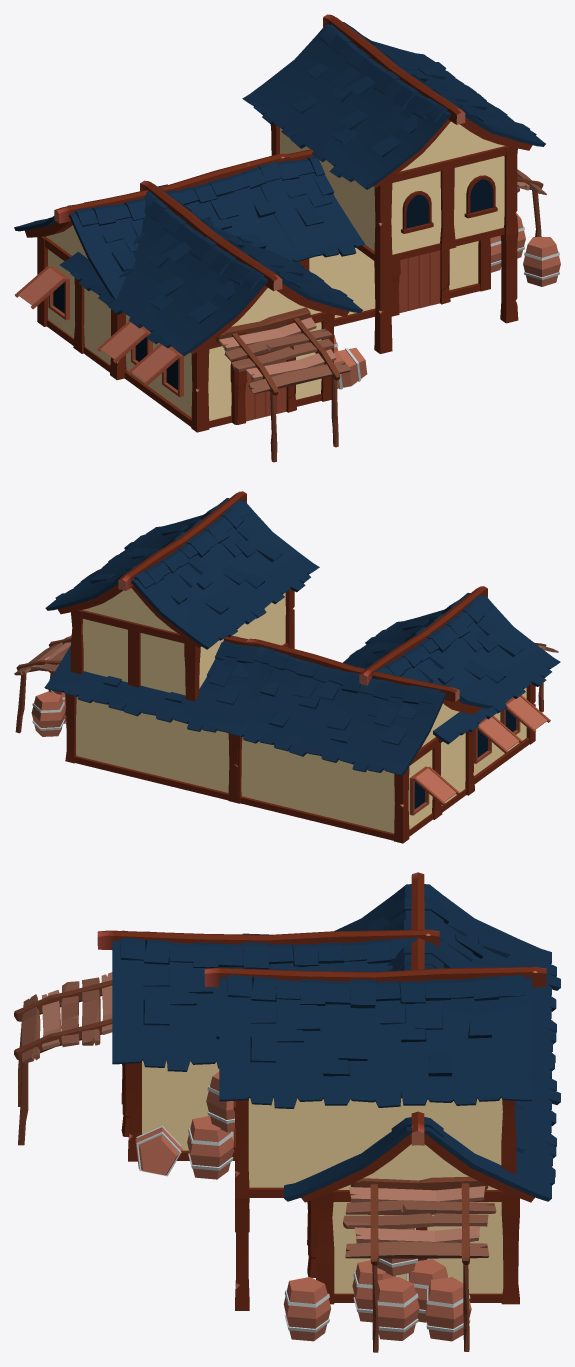
Rendered from SM_Tavern.fbx.
The picture shows the model from 3 angles, top to bottom: view 1: azimuth 30°, elevation 25°; view 2: azimuth 150°, elevation 25°; view 3: azimuth 270°, elevation 25°; orthographic projection. The views are drawn at different scales.
Parts seen in each view (by area): view 1: Cube.043, Cube.050, Cube.048, Cube.044, Cube.101, Cube.051, Cube.040, Cube.041, Cube.049, Cube.097, Cube.102, Cube.098 (+8 smaller); view 2: Cube.043, Cube.048, Cube.049, Cube.050, Cube.041, Cube.044, Cube.040, Cube.105, Cube.045, Cube.051, Cube.104, Cylinder.008 (+1 smaller); view 3: Cube.043, Cube.050, Cube.044, Cube.040, Cube.045, Cube.048, Cube.041, Cube.101, Cube.051, Cylinder.010, Cylinder.009, Cylinder.002 (+8 smaller).
Part boxes in pixels (box(x1,y1,x2,y2)): Cube.043: box(242, 14, 545, 189); Cube.050: box(59, 180, 362, 355); Cube.048: box(14, 153, 325, 300); Cube.044: box(270, 124, 518, 266); Cube.101: box(215, 307, 350, 462); Cube.051: box(124, 312, 334, 432); Cube.040: box(245, 149, 364, 258); Cube.041: box(300, 238, 490, 326); Cube.049: box(37, 236, 300, 380); Cube.097: box(391, 249, 450, 316); Cube.102: box(374, 233, 518, 353); Cube.098: box(230, 319, 296, 424); Cube.043: box(45, 491, 319, 649); Cube.048: box(214, 638, 493, 775); Cube.049: box(231, 730, 474, 843); Cube.050: box(343, 586, 560, 744); Cube.041: box(65, 694, 237, 803); Cube.044: box(70, 589, 294, 701); Cube.040: box(44, 636, 287, 733); Cube.105: box(409, 766, 459, 815); Cube.045: box(14, 635, 71, 733); Cube.051: box(473, 684, 535, 783); Cube.104: box(474, 715, 522, 763); Cylinder.008: box(31, 691, 65, 736); Cube.043: box(204, 966, 546, 1108); Cube.050: box(97, 929, 439, 1071); Cube.044: box(235, 1098, 516, 1198); Cube.040: box(284, 1059, 560, 1202); Cube.045: box(343, 1176, 496, 1352); Cube.048: box(334, 872, 560, 1079); Cube.041: box(316, 1190, 519, 1304); Cube.101: box(14, 972, 112, 1145); Cube.051: box(128, 1060, 234, 1161); Cylinder.010: box(283, 1277, 331, 1341); Cylinder.009: box(372, 1276, 419, 1340); Cylinder.002: box(187, 1116, 233, 1179).
Bounding box in the file's own units: 921 × 428 × 707.
